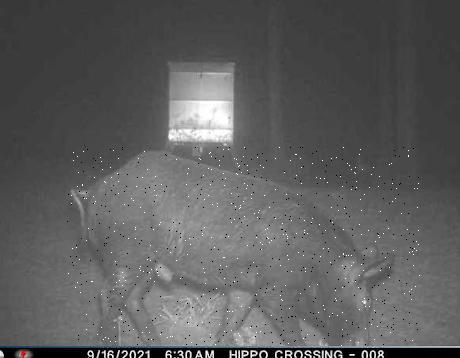Hog: (67, 147, 420, 346)
